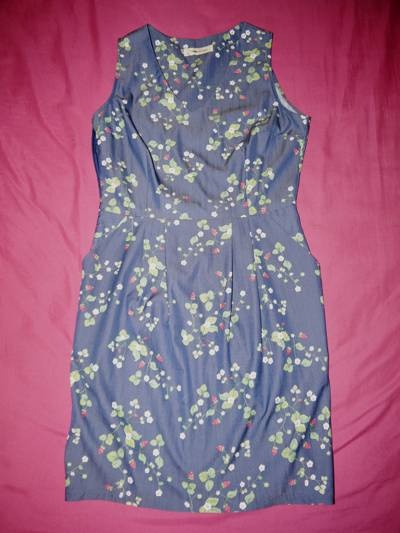Dress: (36, 14, 370, 528)
